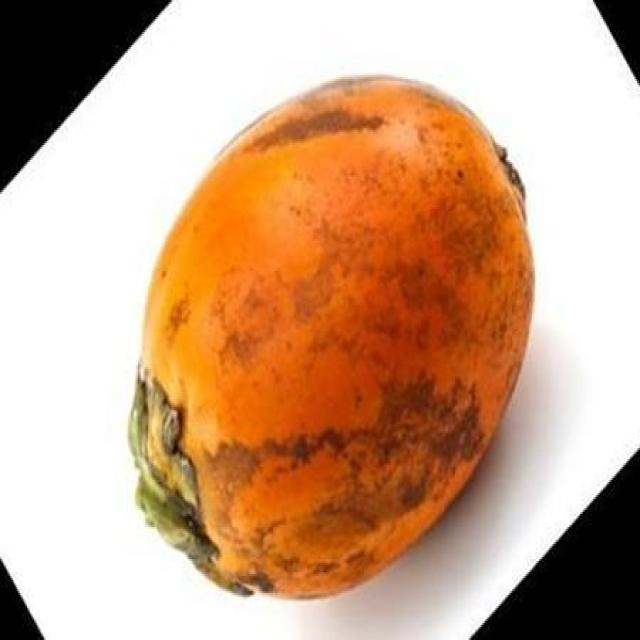good: (124, 79, 536, 602)
